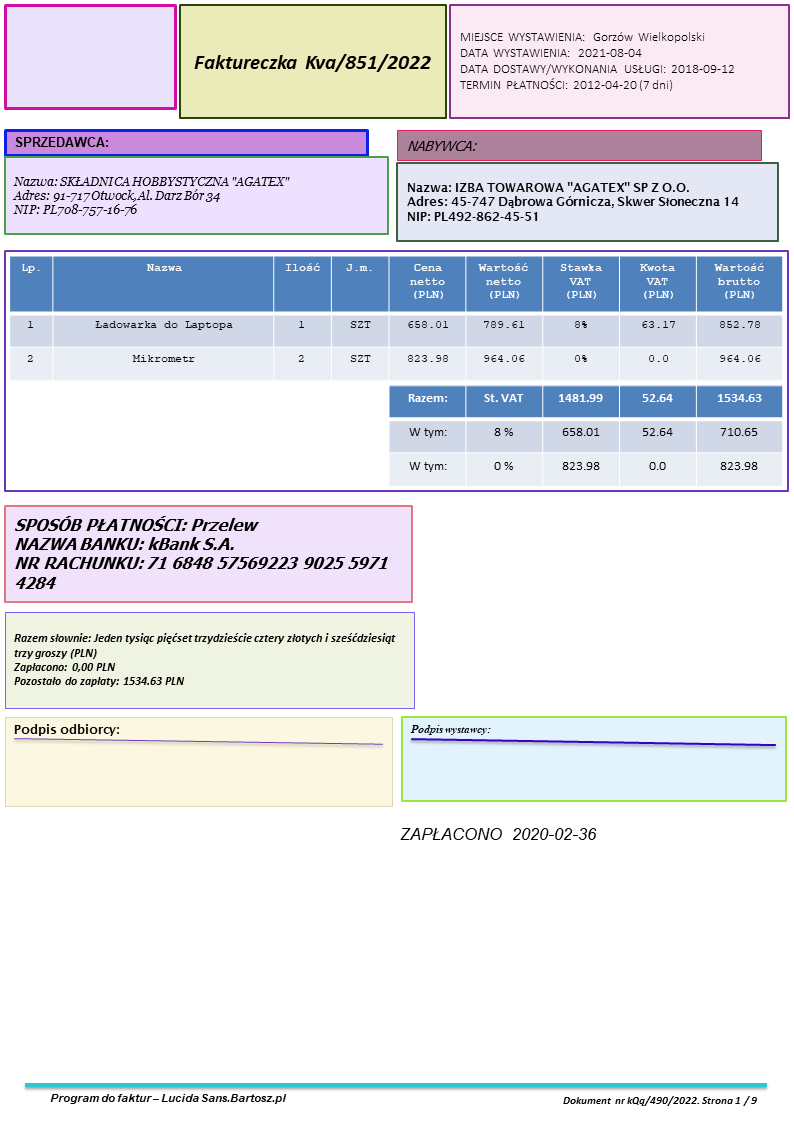Table: (8, 255, 783, 382), (389, 385, 784, 487)
TextBox: (14, 513, 391, 595), (11, 629, 398, 688), (456, 28, 736, 93), (403, 178, 740, 227), (10, 171, 293, 221), (190, 50, 434, 77), (398, 821, 600, 846), (46, 1088, 288, 1108), (561, 1092, 761, 1110), (11, 720, 122, 740), (12, 130, 110, 151), (407, 719, 492, 740), (404, 135, 478, 157)
